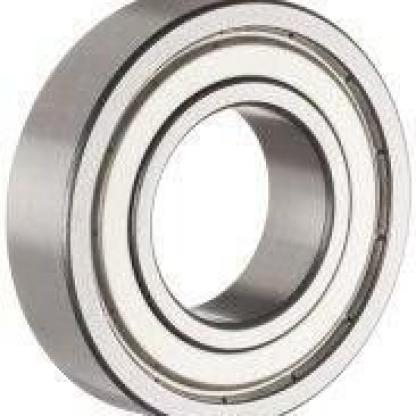FOD: (0, 0, 414, 414)
